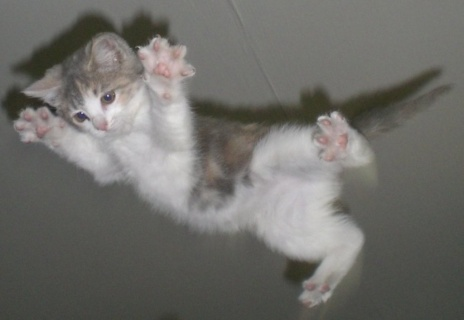Cat: (10, 30, 457, 308)
